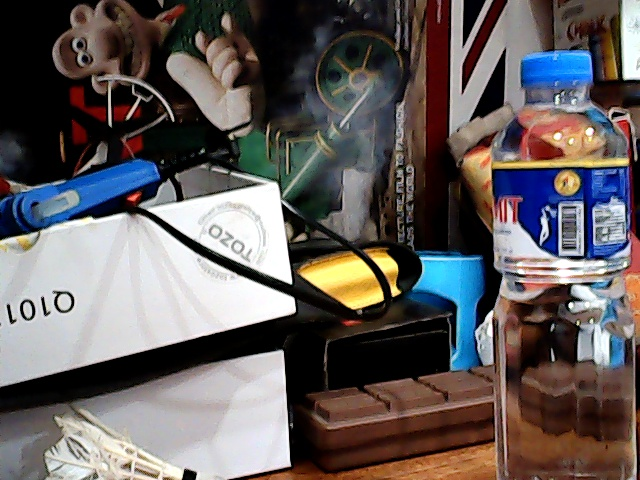Summit Water: (477, 36, 640, 480)
